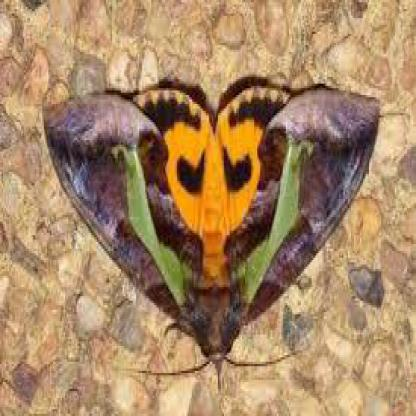fruit sucking moth: (44, 78, 380, 377)
